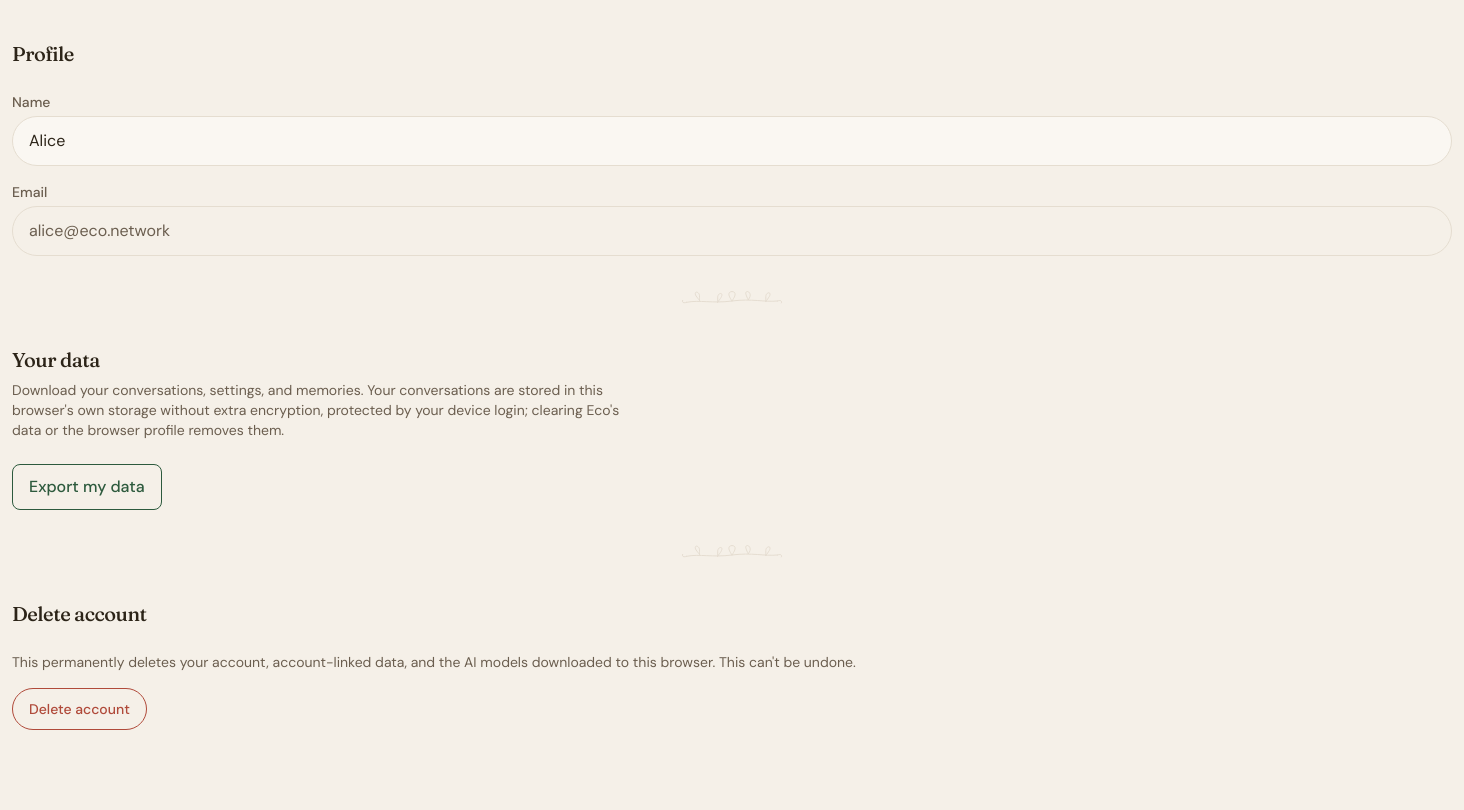
Test: AccountTab › keeps a durable visible success message after saving the profile
This screenshot has width=1464, height=810.
Replace the text in the field showing "Alice" with "Bob": x=732, y=141 [12, 116, 1452, 166]
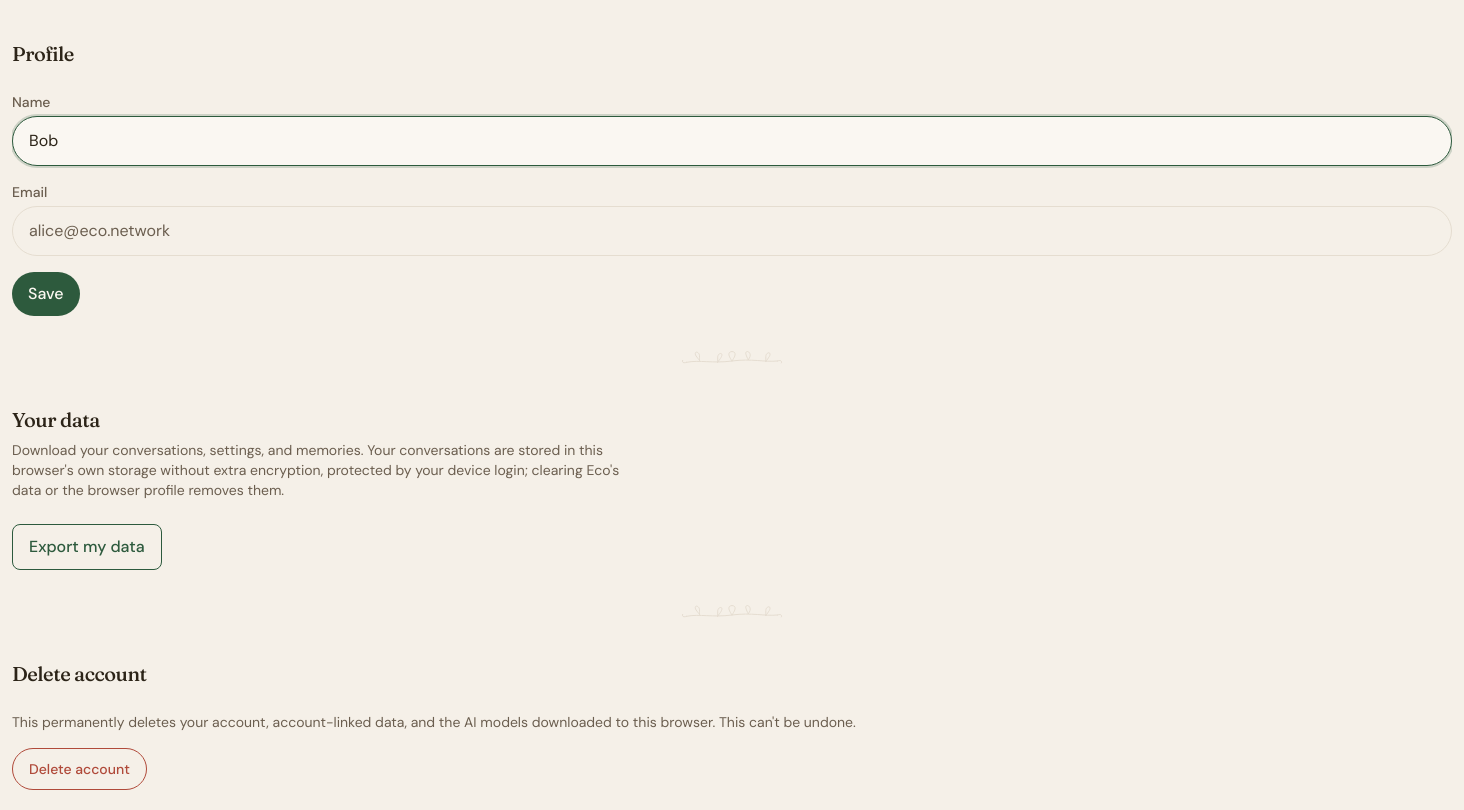
Click the button "Save": x=46, y=294 [12, 272, 80, 316]
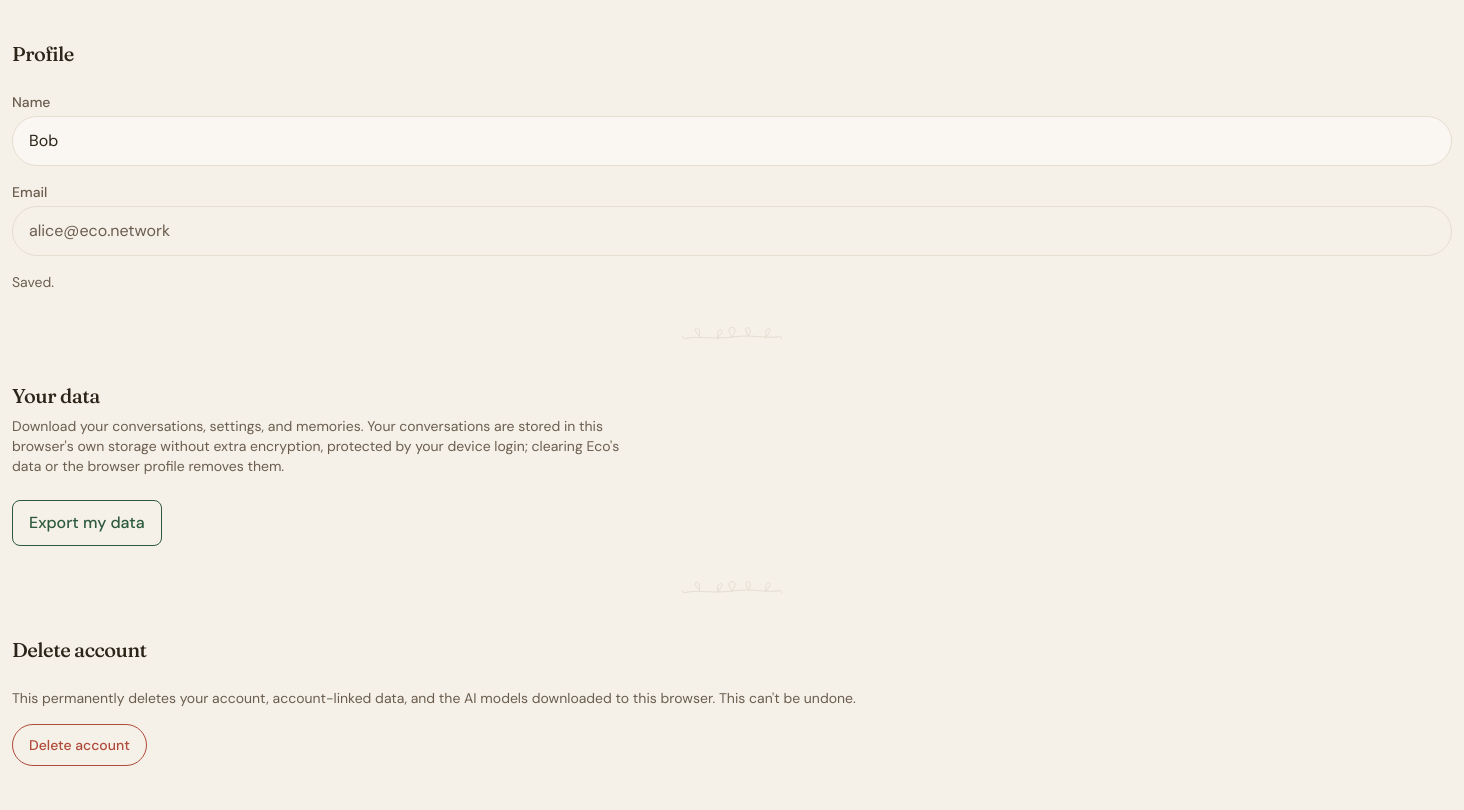
Expected: the text "Saved." is shown, [12, 272, 54, 292]
